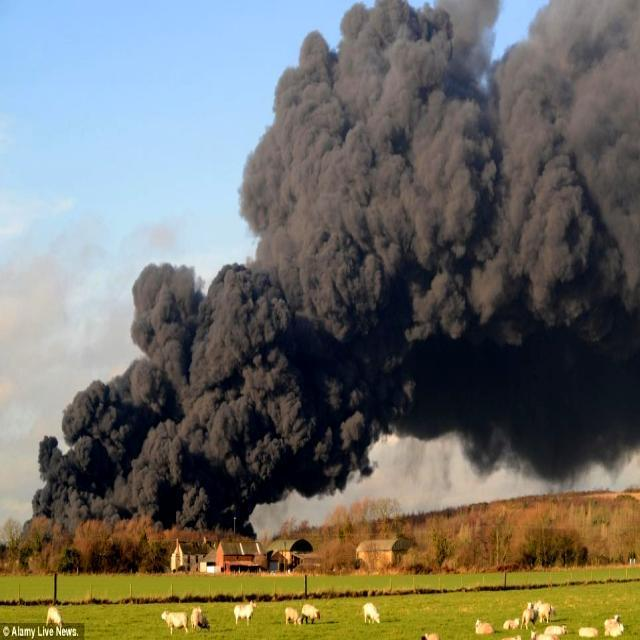Smoke: (63, 0, 640, 524)
